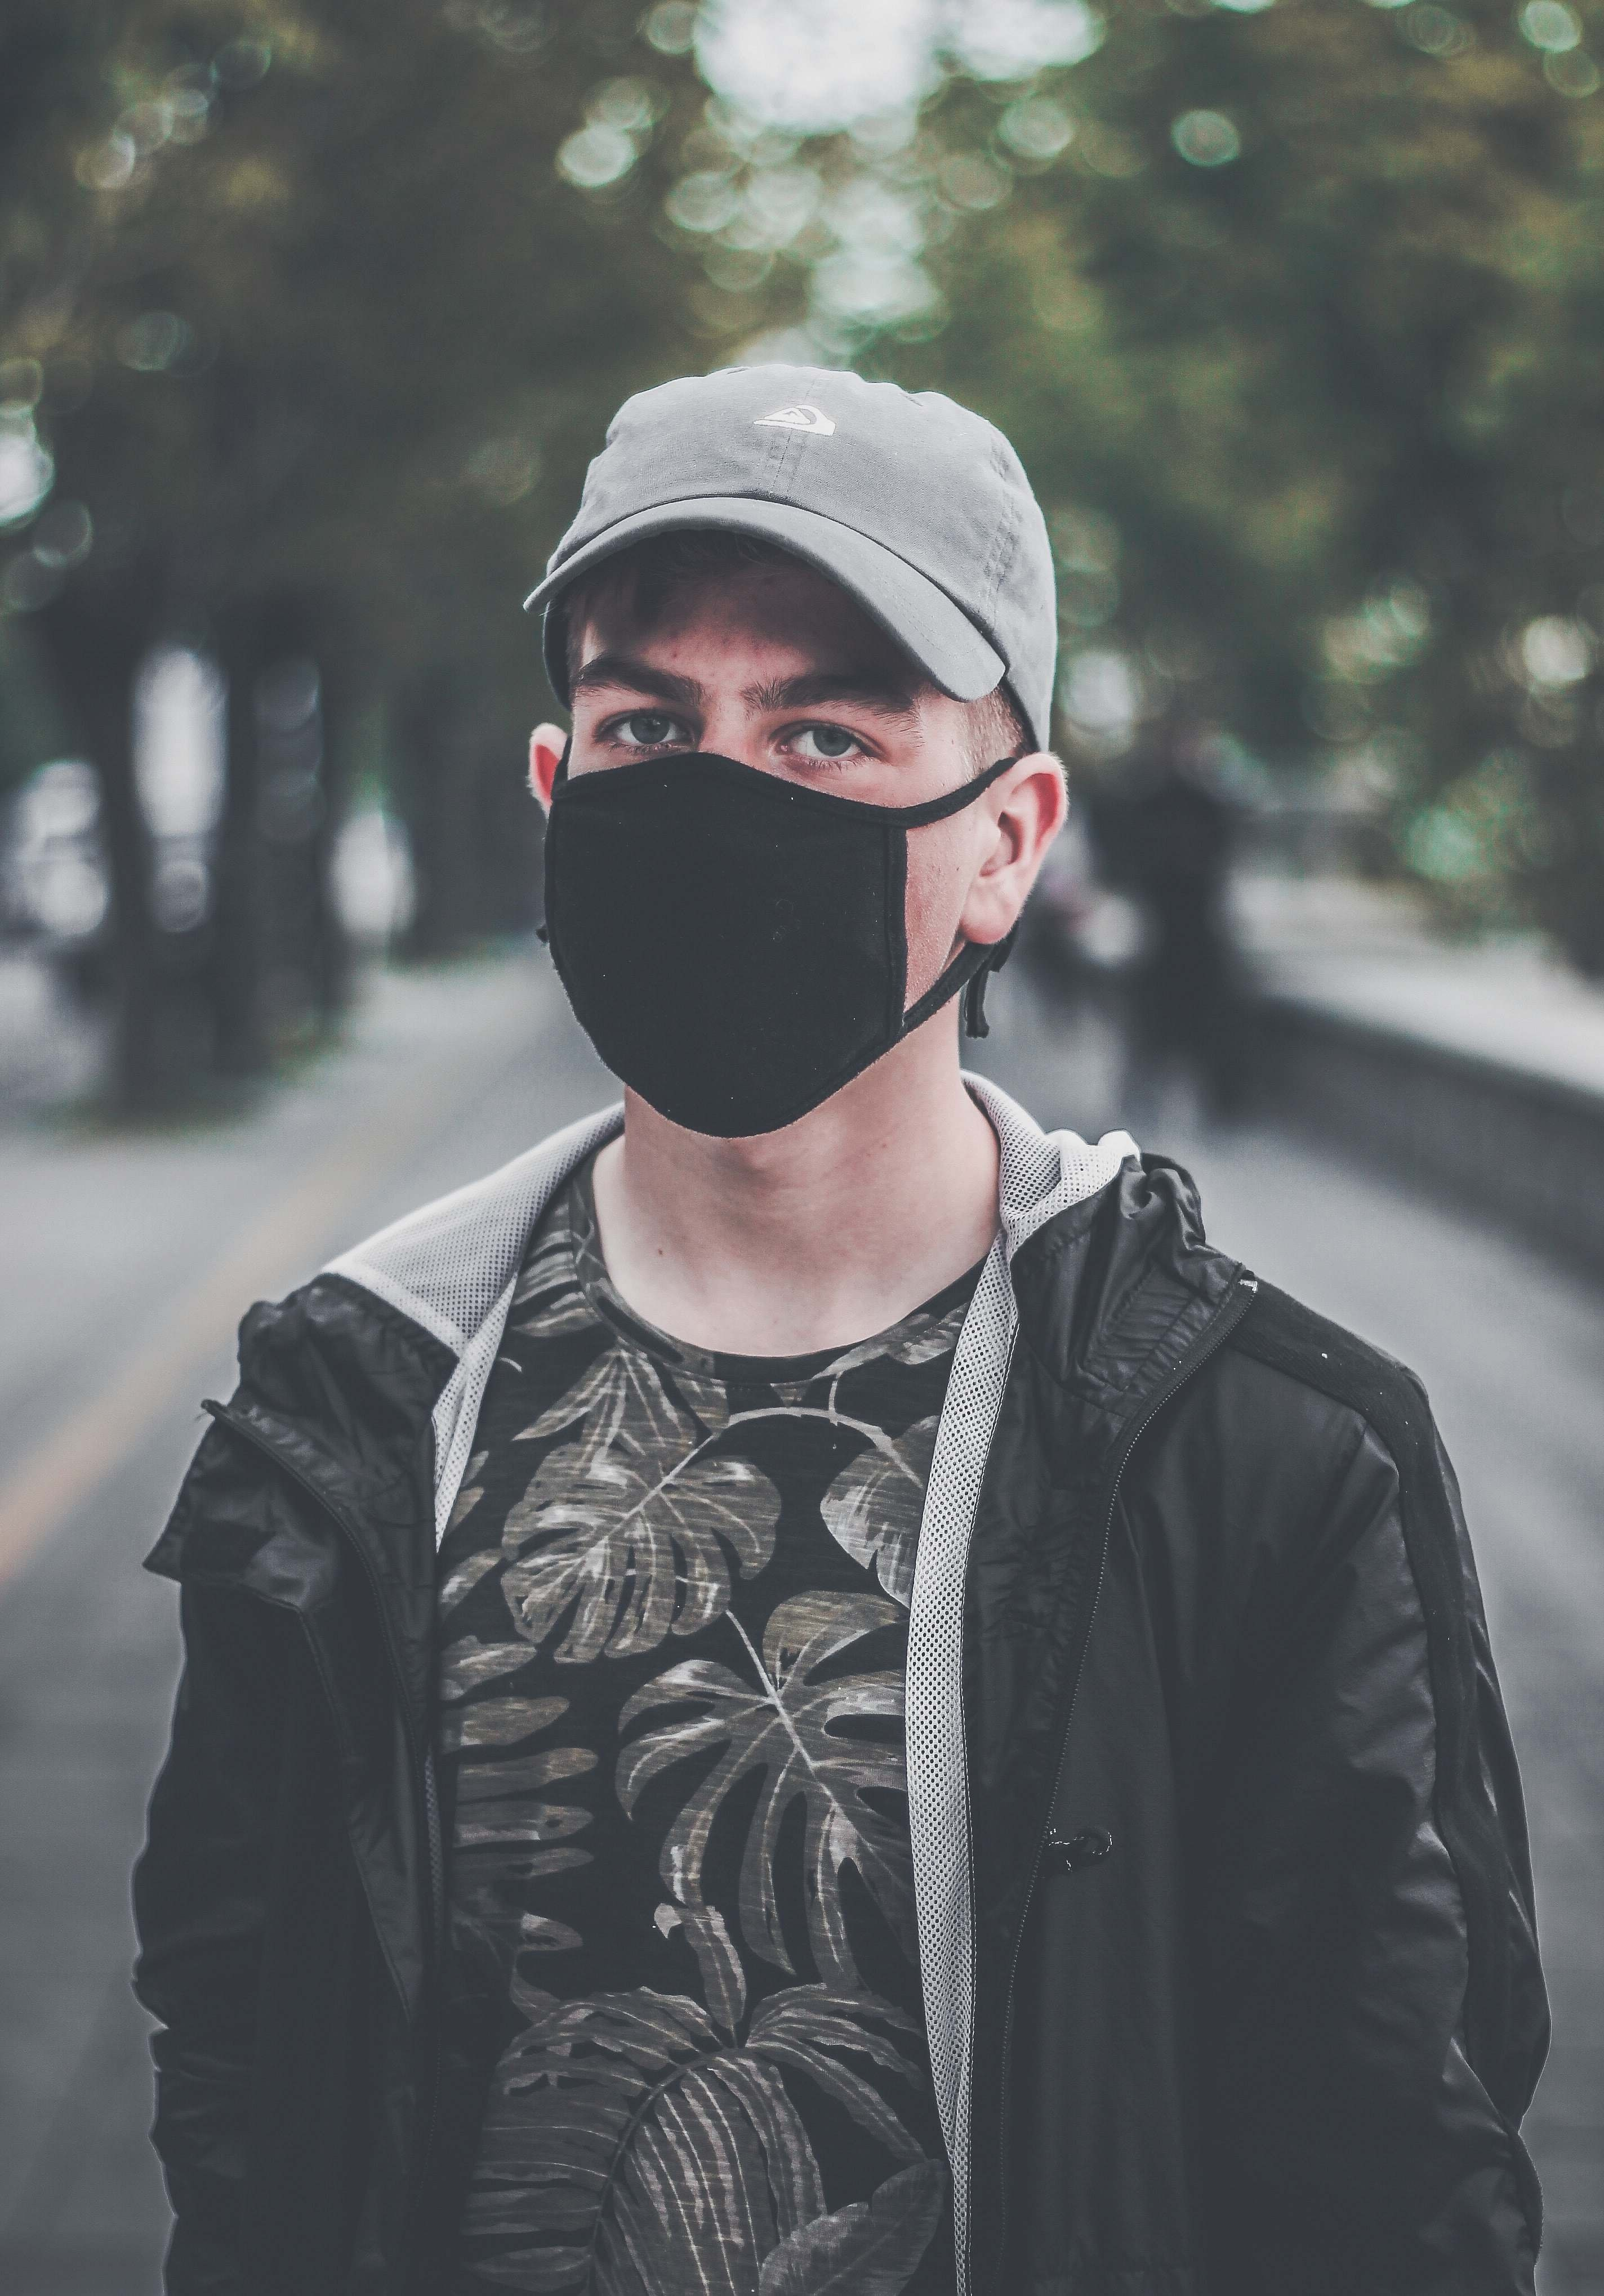face_with_mask: (473, 344, 1123, 1205)
